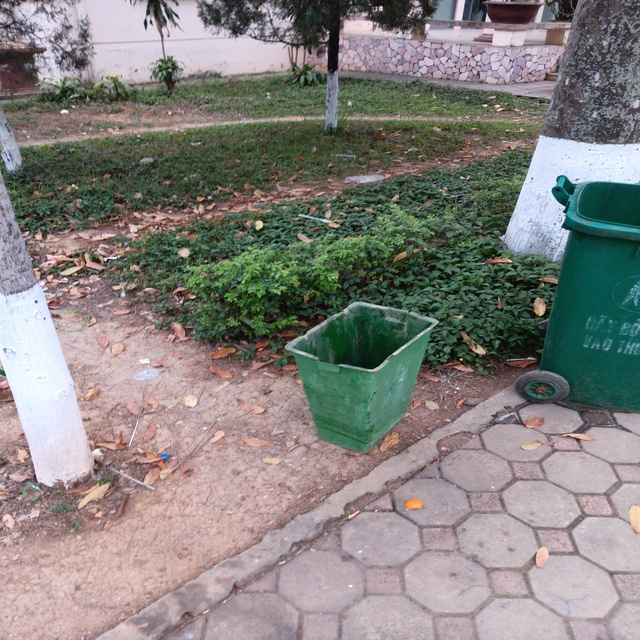thungrac: (539, 155, 640, 430), (294, 299, 420, 460)
